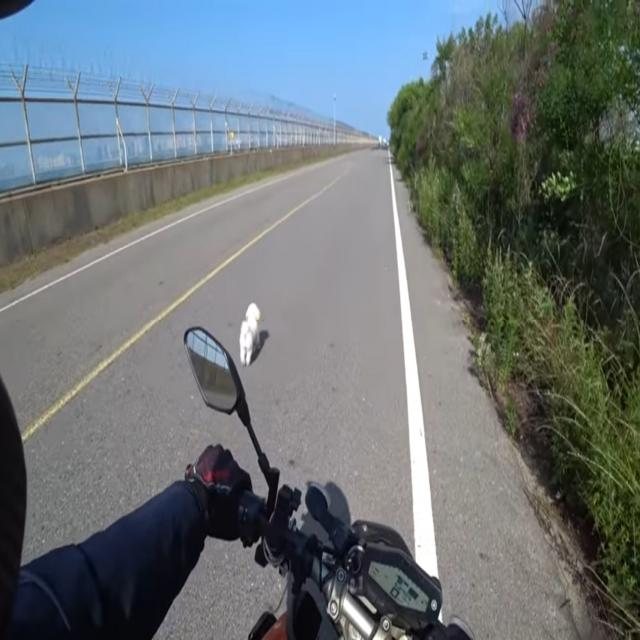dog: (234, 291, 273, 380)
